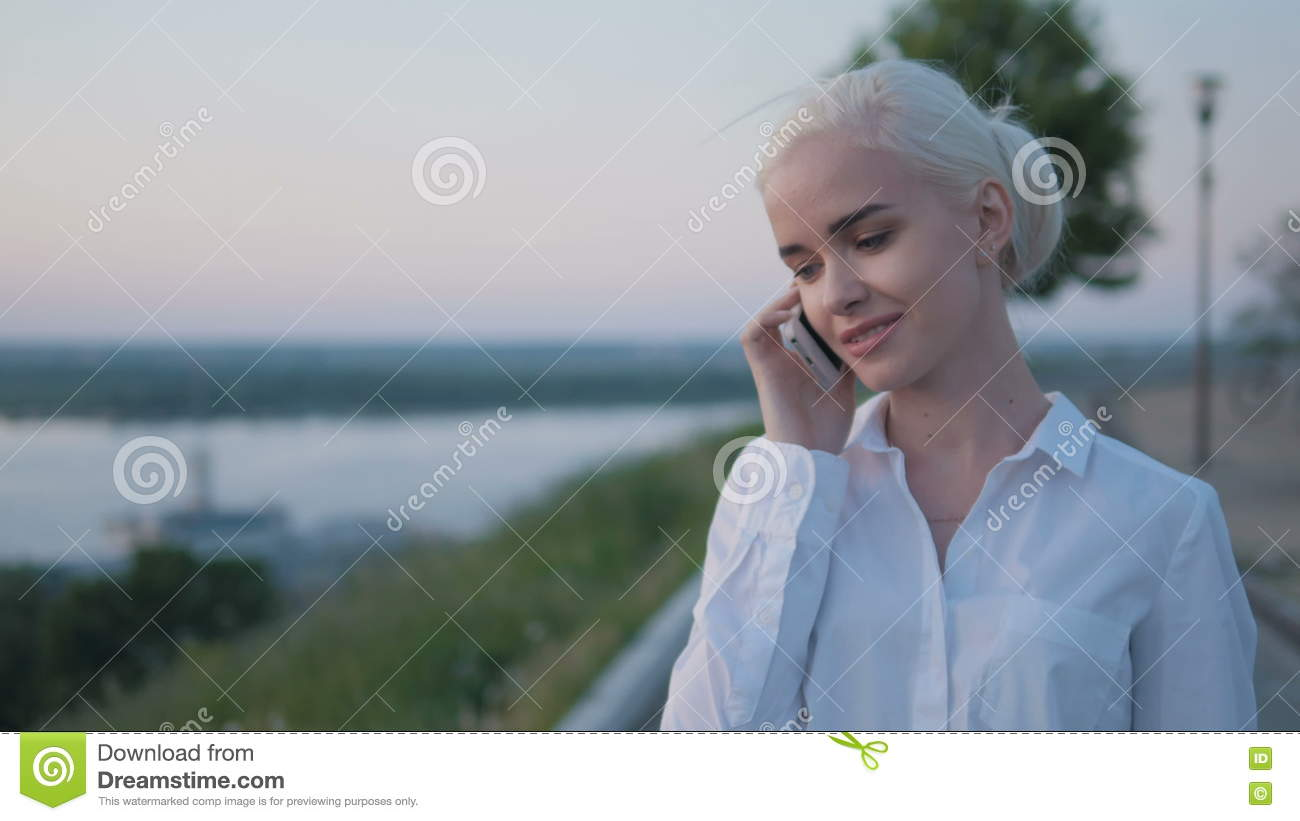talk: (735, 197, 936, 469)
